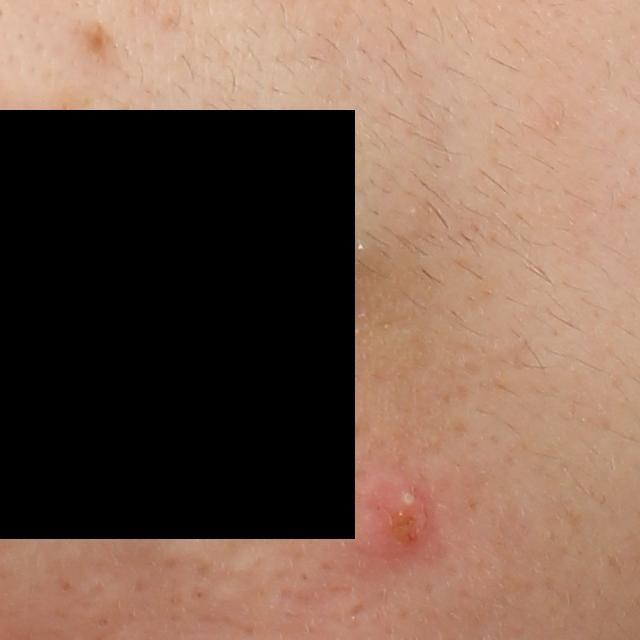nevus: (69, 17, 124, 63)
